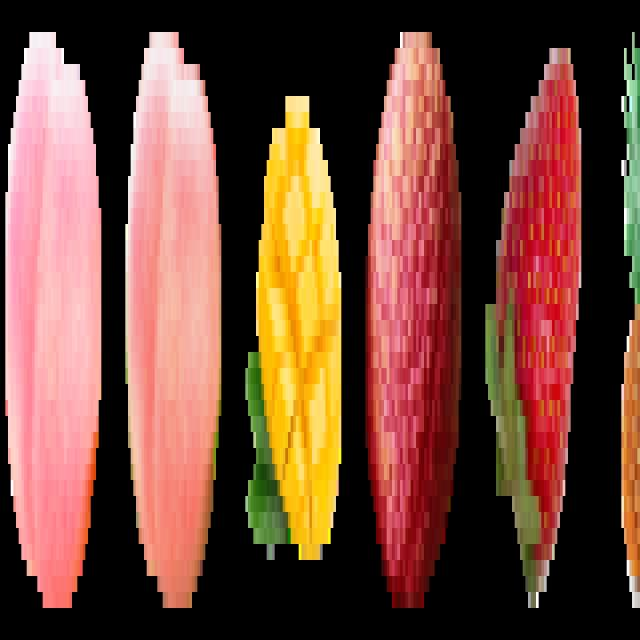lychee: (359, 16, 467, 613)
mango: (244, 35, 346, 604)
peach: (3, 12, 106, 626), (121, 26, 225, 627)
strawberry: (486, 13, 587, 616)
